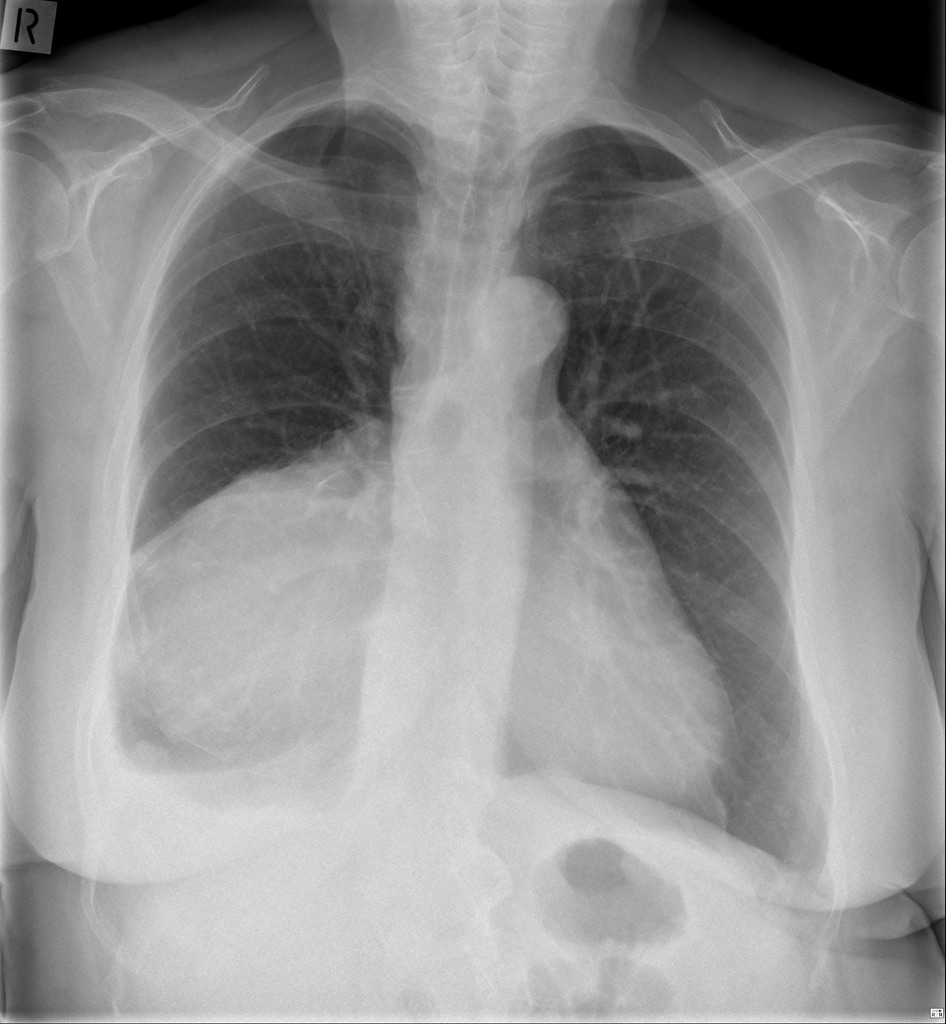cancer: (140, 138, 380, 763)
